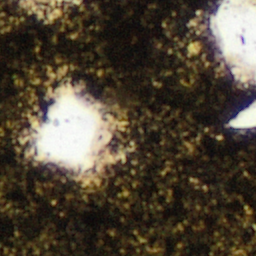cement_matrix: (0, 0, 255, 255), (23, 81, 125, 185), (189, 44, 198, 52)
gravel_crushed_stones: (24, 82, 124, 184), (207, 0, 255, 85), (24, 0, 78, 17), (231, 101, 255, 130), (190, 45, 197, 51), (41, 7, 43, 9)
